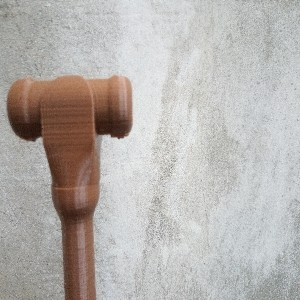palu: (6, 74, 134, 300)
